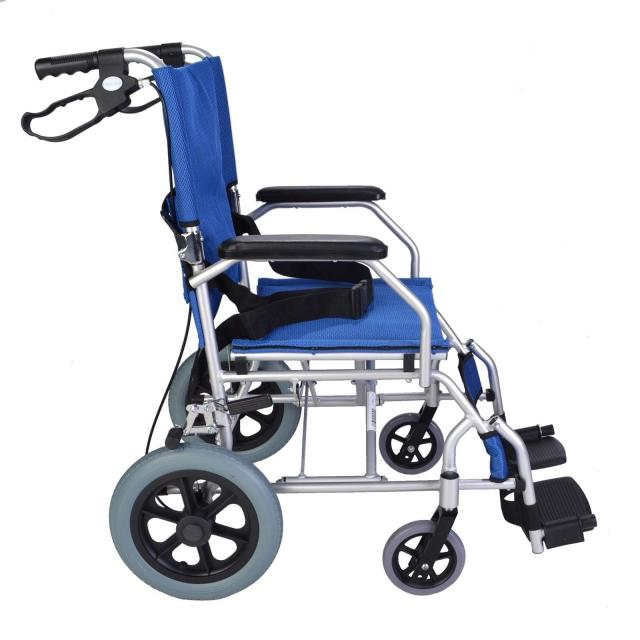wheelchair: (9, 24, 610, 607)
